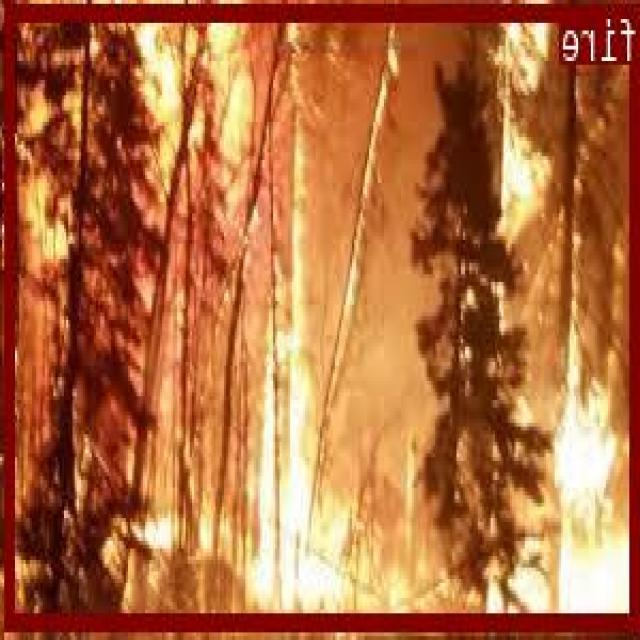fire: (6, 2, 640, 627)
